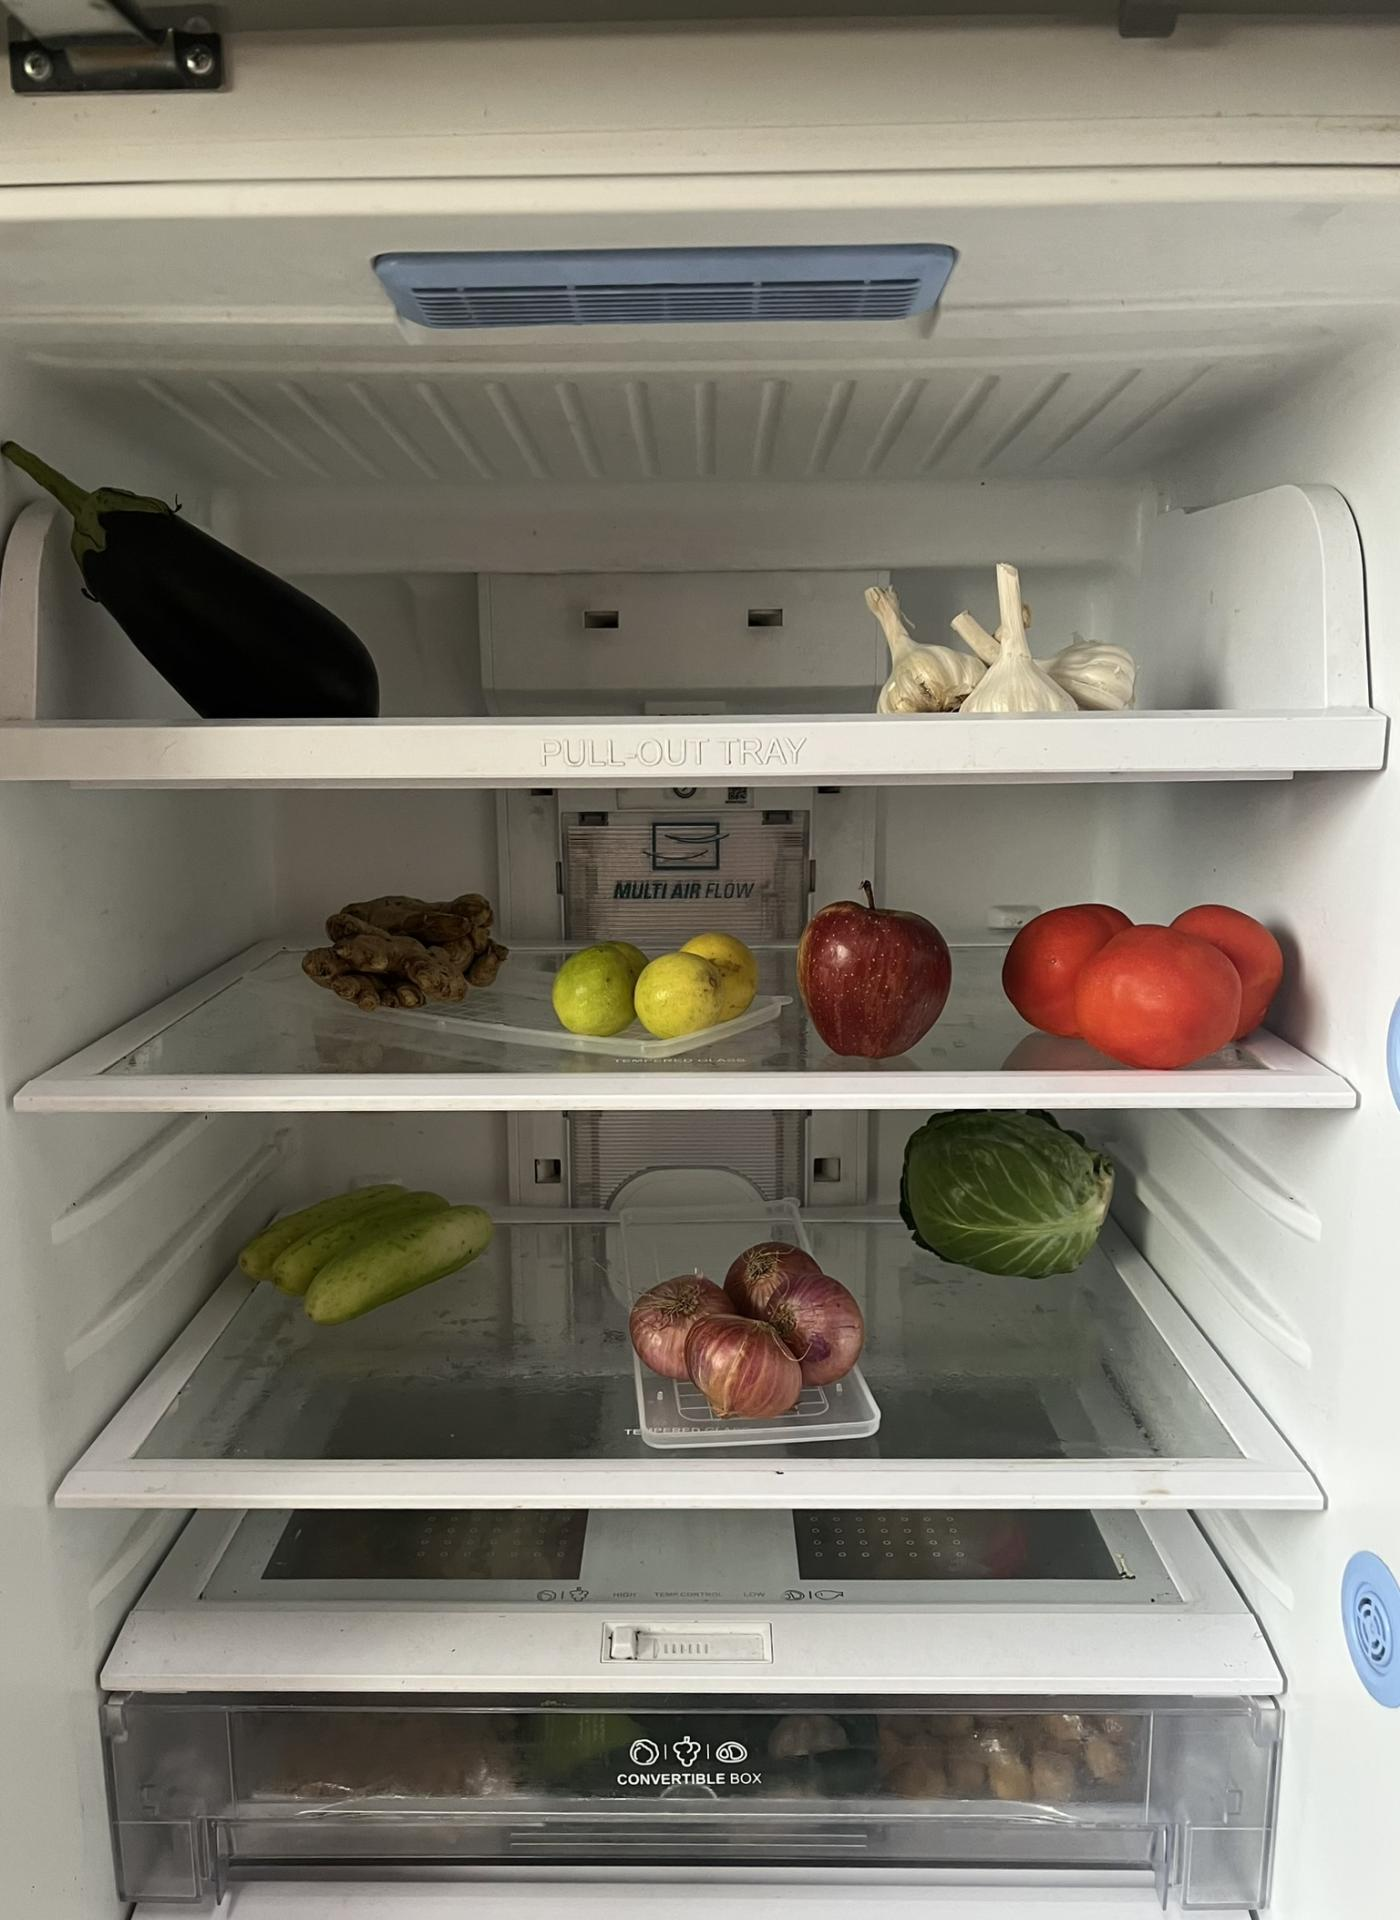apple: (792, 875, 954, 1061)
cabbage: (895, 1109, 1123, 1282)
cucumber: (240, 1179, 495, 1328)
garlic: (857, 556, 1139, 713)
ginger: (298, 888, 513, 1014)
lemon: (555, 929, 753, 1032)
onion: (623, 1231, 869, 1419)
tomato: (1000, 894, 1287, 1067)
